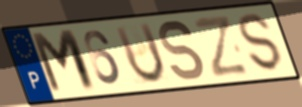6: (83, 29, 123, 88)
M: (27, 27, 100, 97)
S: (157, 18, 207, 83), (238, 13, 285, 74)
U: (112, 21, 168, 87)
Z: (191, 14, 251, 80)
